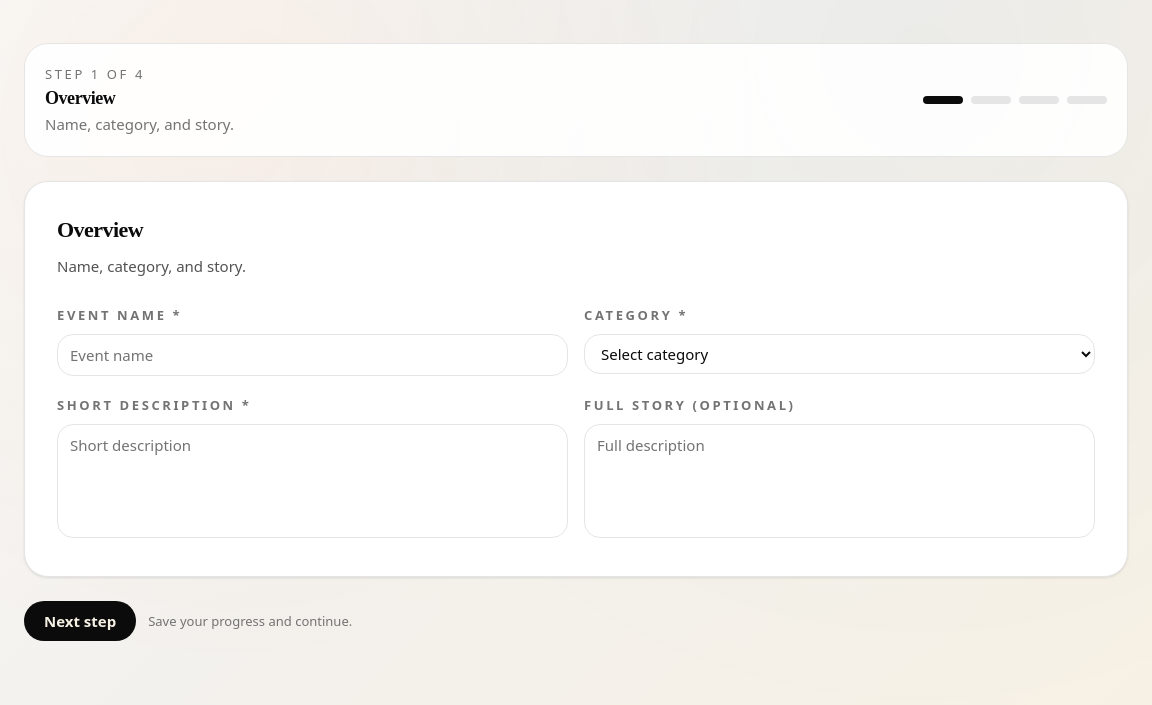
CreateEventPage › blocks progress until required fields on the step are valid
(page scrolled)
Expected: the text "Step 1 of 4" is shown, x1=45 y1=65 x2=145 y2=83
Click the button "Next step" at {"x": 80, "y": 621}, box x1=24 y1=601 x2=136 y2=641
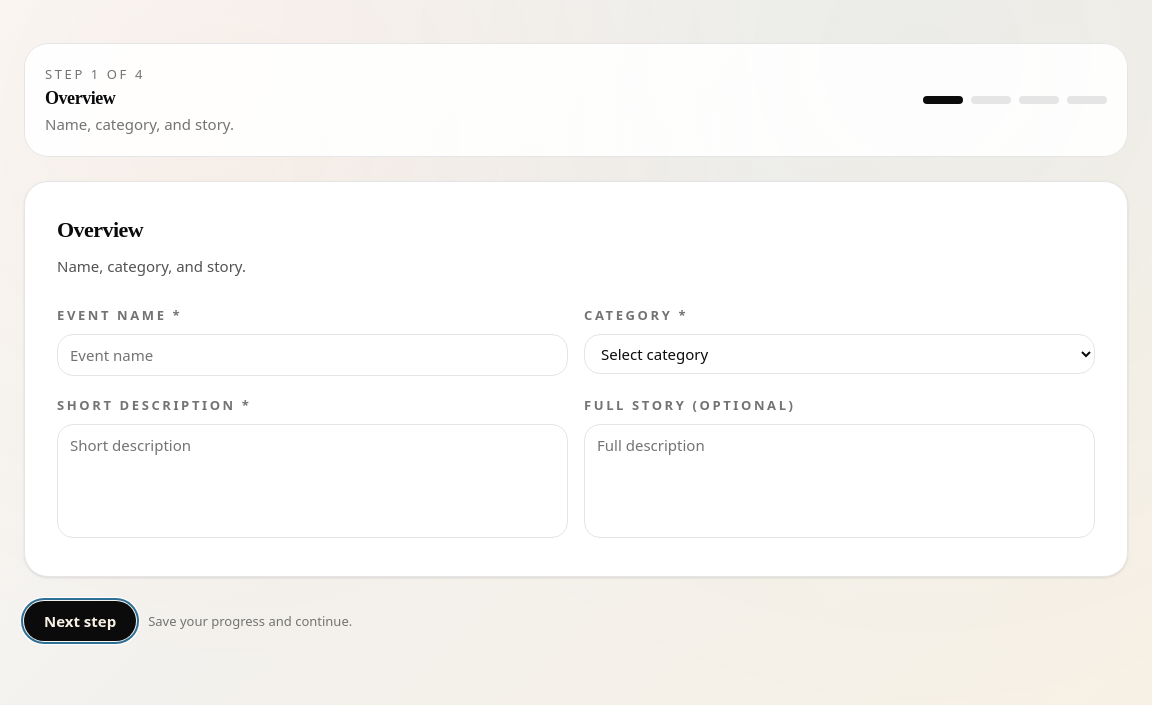
Expected: the text "Step 1 of 4" is shown, x1=45 y1=65 x2=145 y2=83
Type "Trail Run" into the field with placeholder "Event name" at {"x": 312, "y": 355}, box x1=57 y1=334 x2=568 y2=376
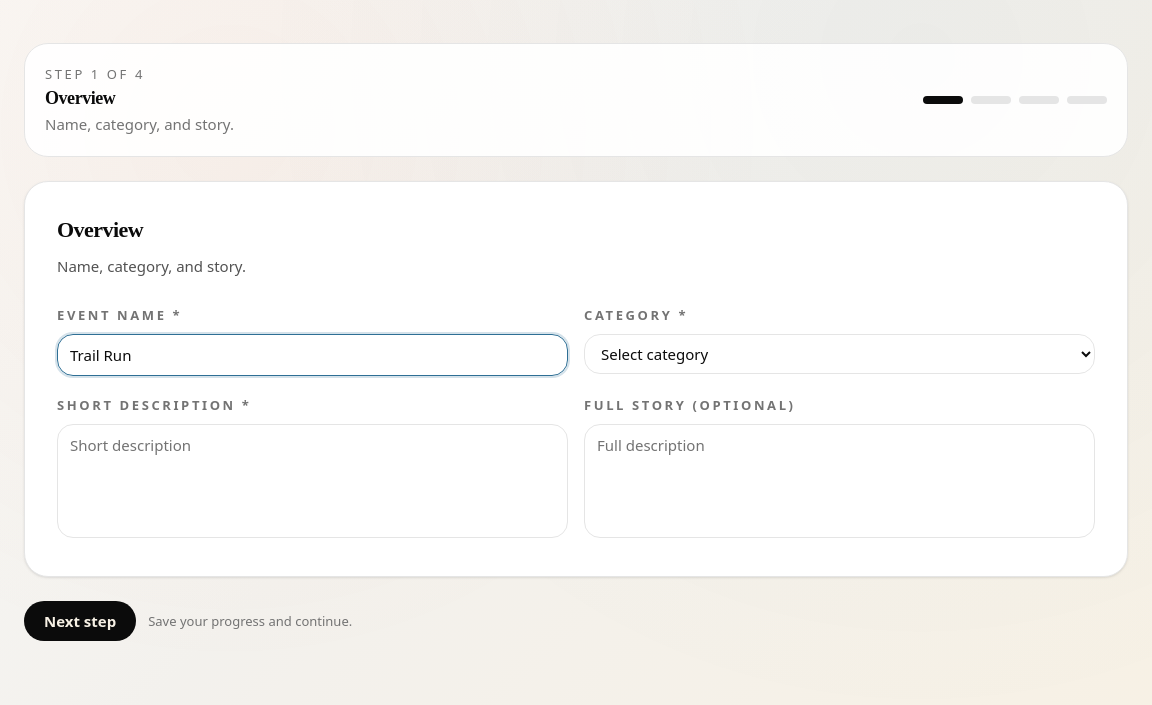
Select "Outdoors" in the dropdown at {"x": 840, "y": 354}, box x1=584 y1=334 x2=1095 y2=374
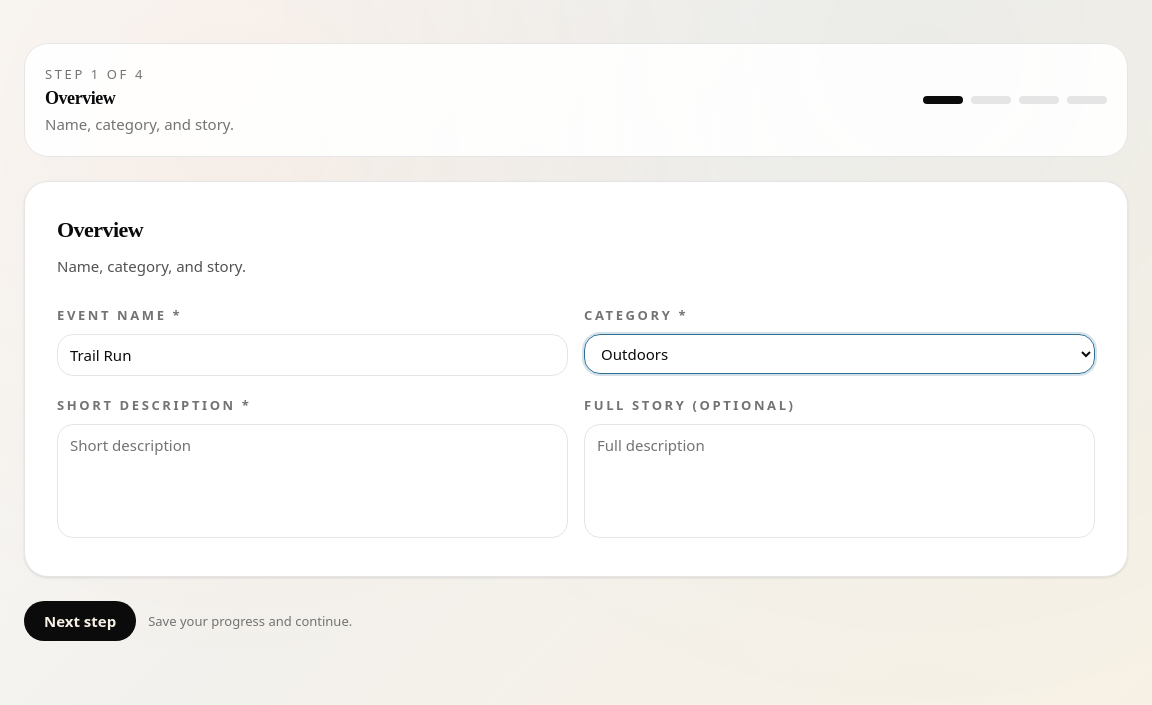
Type "Morning 5k" into the text box with placeholder "Short description" at {"x": 312, "y": 481}, box x1=57 y1=424 x2=568 y2=538
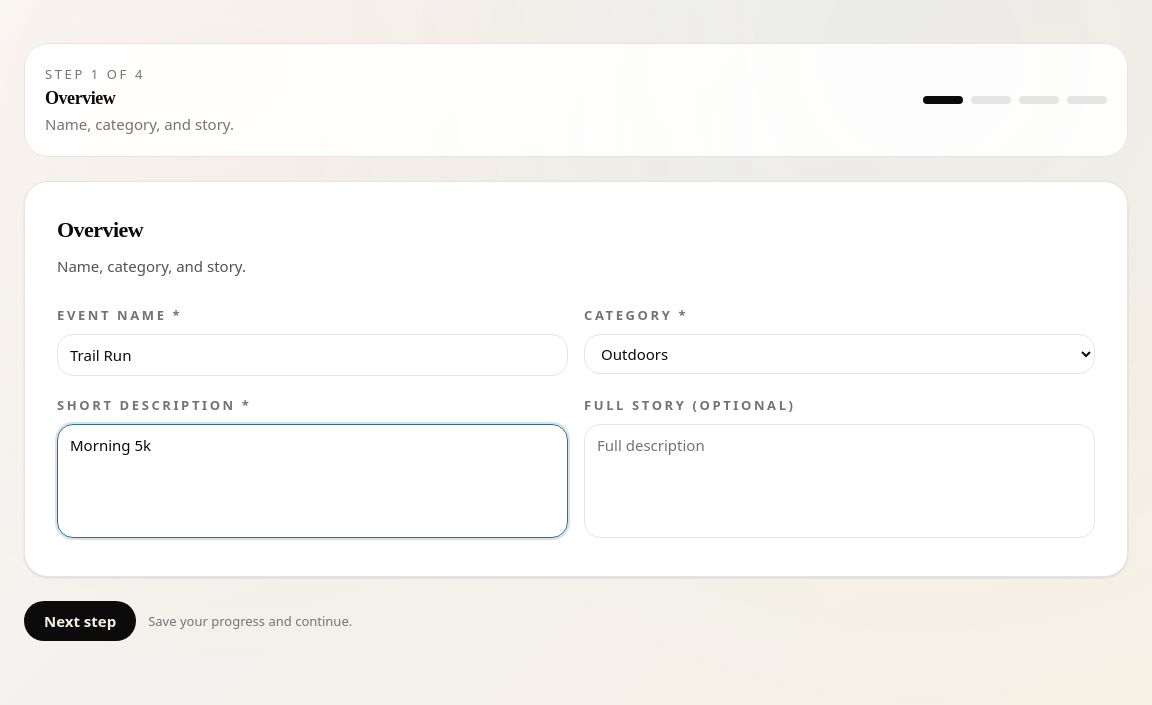
Click the button "Next step" at {"x": 80, "y": 621}, box x1=24 y1=601 x2=136 y2=641
(page scrolled)
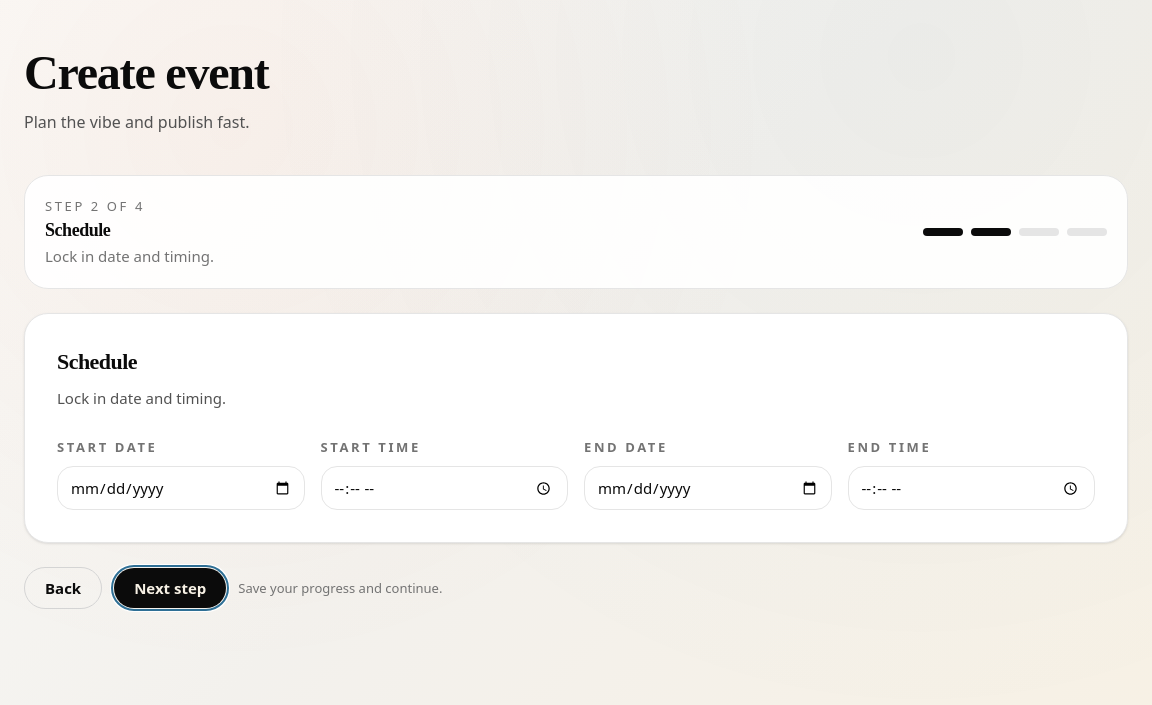
Now the text "Step 2 of 4" is shown, box x1=45 y1=197 x2=145 y2=215
Click the button "Back" at {"x": 63, "y": 588}, box x1=24 y1=567 x2=102 y2=609
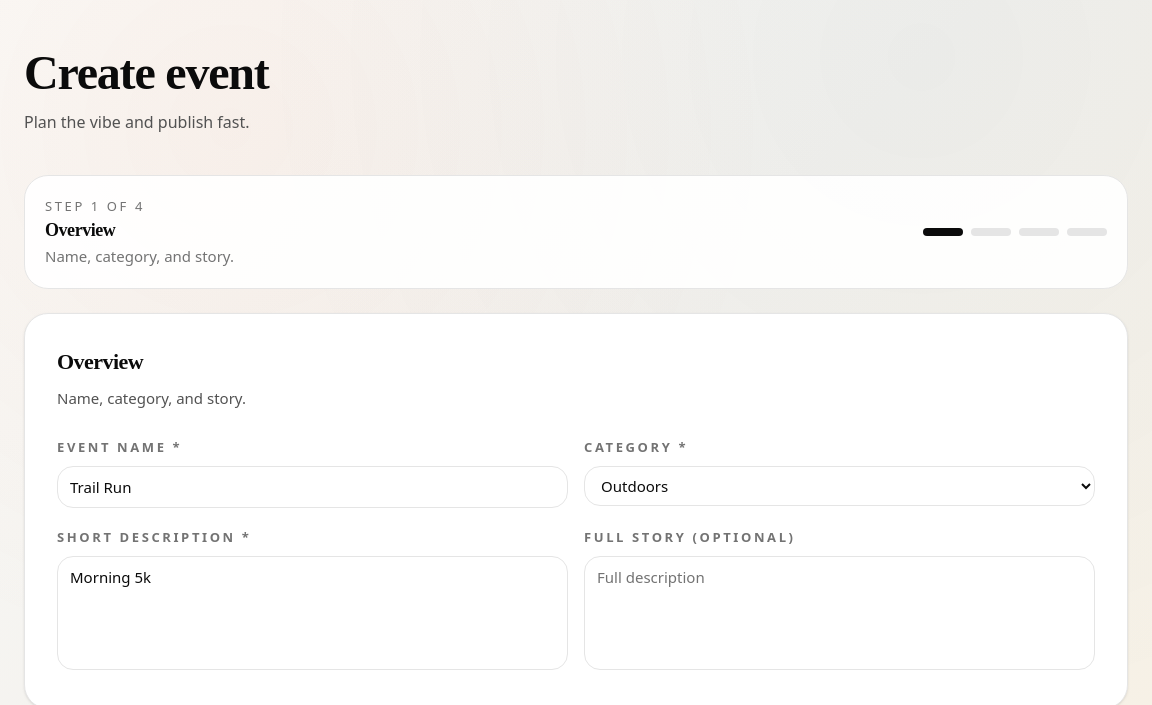
Now the text "Step 1 of 4" is shown, box x1=45 y1=197 x2=145 y2=215
Now the field with placeholder "Event name" holds "Trail Run", box x1=57 y1=466 x2=568 y2=508
